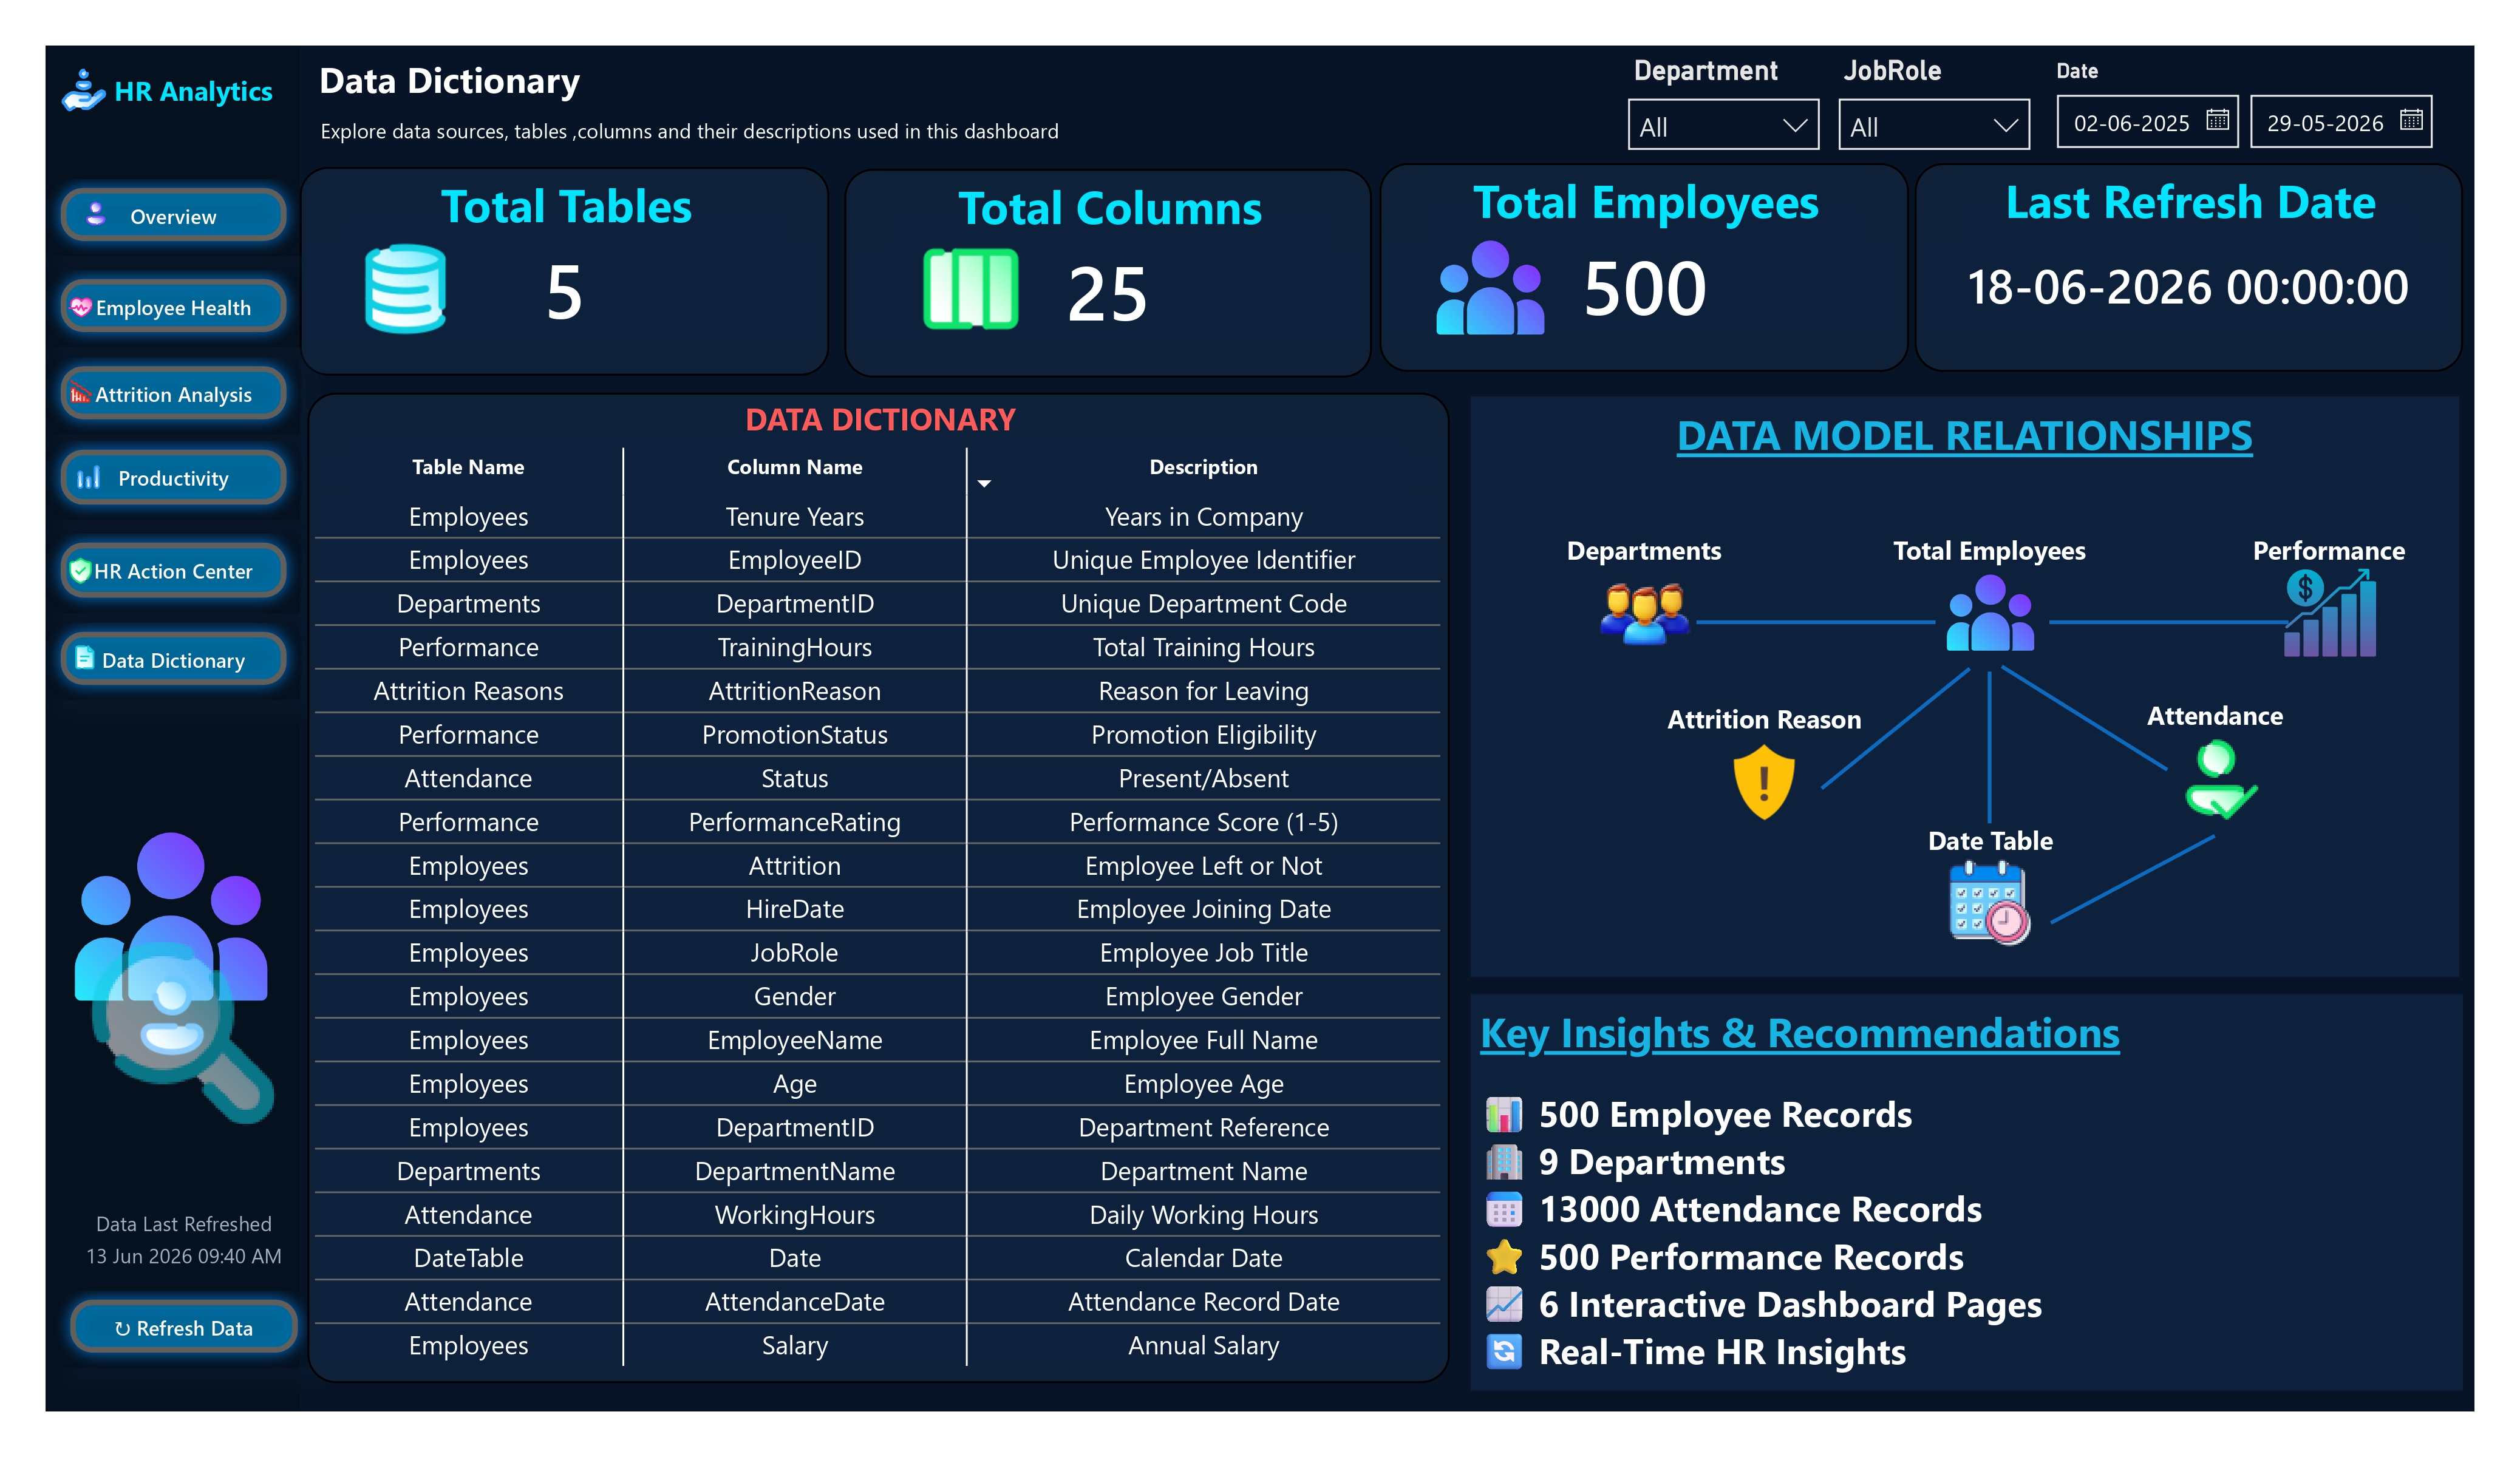

This screenshot's page, from the dashboard's own definition file:
{"tool":"powerbi","page":{"name":"Data Dictionary","canvas":[1280,720],"ordinal":5},"visuals":[{"type":"shape","box":[0,0,134,720],"z":0},{"type":"cardVisual","title":"Total Tables","fields":{"Data":["KPI Trend Measures.Total Tables"]},"box":[133.6,63.8,278.9,110],"z":0,"group":"g1"},{"type":"textbox","box":[138.8,0,605,38.8],"z":1000},{"type":"cardVisual","title":"Total Columns","fields":{"Data":["KPI Trend Measures.Total Columns"]},"box":[421.1,65.3,277.4,109.7],"z":1000,"group":"g1"},{"type":"textbox","box":[140,30.2,669.6,33.4],"z":2000},{"type":"cardVisual","title":"Total Employees","fields":{"Data":["Employee KPI Measures.Total Employees"]},"box":[702.6,62,279.1,110.4],"z":2000,"group":"g1"},{"type":"group","id":"g1","title":"Group 1","box":[133.6,62,1140.5,112.9],"z":3000},{"type":"cardVisual","title":"Last Refresh Date","fields":{"Data":["KPI Trend Measures.Last Refresh"]},"box":[984.4,62,289.6,110.4],"z":3000,"group":"g1"},{"type":"slicer","fields":{"Values":["departments.Department"]},"box":[823.9,0,120.9,60.4],"z":4000},{"type":"slicer","fields":{"Values":["employees.JobRole"]},"box":[935.3,0,120.9,60.4],"z":5000},{"type":"slicer","fields":{"Values":["DateTable.Date"]},"box":[1046.7,2.2,227.8,60],"z":6000},{"type":"textbox","box":[29.4,8.9,97.2,30],"z":7000},{"type":"actionButton","box":[0,66.8,135.2,44.5],"z":8000},{"type":"actionButton","box":[0,114.5,135.2,44.5],"z":9000},{"type":"actionButton","box":[0,160.7,135.2,44.5],"z":10000},{"type":"actionButton","box":[0,205.2,135.2,44.5],"z":11000},{"type":"actionButton","box":[0,254.5,135.2,44.5],"z":12000},{"type":"actionButton","box":[0,300.6,135.2,44.5],"z":13000},{"type":"image","box":[12.8,396.8,106.7,124.4],"z":14000},{"type":"image","box":[42.2,480,50,62.2],"z":15000},{"type":"image","box":[11.1,457.8,123.3,125.6],"z":16000},{"type":"image","box":[19,81.4,14.8,14.8],"z":17000},{"type":"image","box":[11.4,130.9,15.5,14.5],"z":18000},{"type":"image","box":[11.4,174.8,14.8,15.2],"z":19000},{"type":"image","box":[14.3,220.5,15.2,14.8],"z":20000},{"type":"image","box":[11,269,15.2,14.8],"z":21000},{"type":"image","box":[12.9,314.3,14.8,15.2],"z":22000},{"type":"image","box":[7.2,9.4,25.6,28.9],"z":23000},{"type":"actionButton","box":[5.3,652.7,135.3,44.7],"z":24000},{"type":"textbox","box":[11.4,606.4,123.6,50.7],"z":25000},{"type":"tableEx","title":"DATA DICTIONARY","fields":{"Values":["Data Dictionary. Table Name        ","Data Dictionary. Column Name       ","Data Dictionary. Description                "]},"box":[138.4,182.9,601.3,521.7],"z":26000},{"type":"textbox","box":[751.2,500,522.5,208.8],"z":27000},{"type":"textbox","box":[750.8,184.5,521.7,307],"z":28000},{"type":"image","box":[965,257,119,66],"z":29000},{"type":"image","box":[783,257,119,66],"z":30000},{"type":"image","box":[1144,257,119,66],"z":31000},{"type":"image","box":[845.6,345.6,120,66.7],"z":32000},{"type":"image","box":[965.6,410,118.9,65.6],"z":33000},{"type":"image","box":[1472,364,119,66],"z":34000},{"type":"image","box":[1084.4,344.4,118.9,65.6],"z":35000},{"type":"shape","box":[870,284.7,126,38.7],"z":35001},{"type":"shape","box":[1056,284.7,126,38.7],"z":35002},{"type":"shape","box":[935.3,323.3,80,73.3],"z":35003},{"type":"shape","box":[1030,312,89.3,85.3],"z":35004},{"type":"shape","box":[1056,412,88,54.7],"z":35005},{"type":"shape","box":[980.5,330,87.9,80],"z":35006},{"type":"image","box":[711.7,98.3,98.3,58.3],"z":35007},{"type":"image","box":[438.3,98.3,100,60],"z":35008},{"type":"image","box":[140,98.3,100,60],"z":35009}]}

Visuals, with their boxes on the page's 1280x720 design canvas (x1, y1, x2, y2). These are canvas units, not pixel positions in the 2520x1457 screenshot, which may show the page scaled, cropped or inside an application window:
shape: bbox(0, 0, 134, 720)
"Total Tables" cardVisual: bbox(134, 64, 412, 174)
textbox: bbox(139, 0, 744, 39)
"Total Columns" cardVisual: bbox(421, 65, 698, 175)
textbox: bbox(140, 30, 810, 64)
"Total Employees" cardVisual: bbox(703, 62, 982, 172)
"Group 1" group: bbox(134, 62, 1274, 175)
"Last Refresh Date" cardVisual: bbox(984, 62, 1274, 172)
slicer - departments.Department: bbox(824, 0, 945, 60)
slicer - employees.JobRole: bbox(935, 0, 1056, 60)
slicer - DateTable.Date: bbox(1047, 2, 1274, 62)
textbox: bbox(29, 9, 127, 39)
actionButton: bbox(0, 67, 135, 111)
actionButton: bbox(0, 114, 135, 159)
actionButton: bbox(0, 161, 135, 205)
actionButton: bbox(0, 205, 135, 250)
actionButton: bbox(0, 254, 135, 299)
actionButton: bbox(0, 301, 135, 345)
image: bbox(13, 397, 120, 521)
image: bbox(42, 480, 92, 542)
image: bbox(11, 458, 134, 583)
image: bbox(19, 81, 34, 96)
image: bbox(11, 131, 27, 145)
image: bbox(11, 175, 26, 190)
image: bbox(14, 220, 30, 235)
image: bbox(11, 269, 26, 284)
image: bbox(13, 314, 28, 330)
image: bbox(7, 9, 33, 38)
actionButton: bbox(5, 653, 141, 697)
textbox: bbox(11, 606, 135, 657)
"DATA DICTIONARY" tableEx: bbox(138, 183, 740, 705)
textbox: bbox(751, 500, 1274, 709)
textbox: bbox(751, 184, 1272, 492)
image: bbox(965, 257, 1084, 323)
image: bbox(783, 257, 902, 323)
image: bbox(1144, 257, 1263, 323)
image: bbox(846, 346, 966, 412)
image: bbox(966, 410, 1084, 476)
image: bbox(1472, 364, 1591, 430)
image: bbox(1084, 344, 1203, 410)
shape: bbox(870, 285, 996, 323)
shape: bbox(1056, 285, 1182, 323)
shape: bbox(935, 323, 1015, 397)
shape: bbox(1030, 312, 1119, 397)
shape: bbox(1056, 412, 1144, 467)
shape: bbox(980, 330, 1068, 410)
image: bbox(712, 98, 810, 157)
image: bbox(438, 98, 538, 158)
image: bbox(140, 98, 240, 158)
